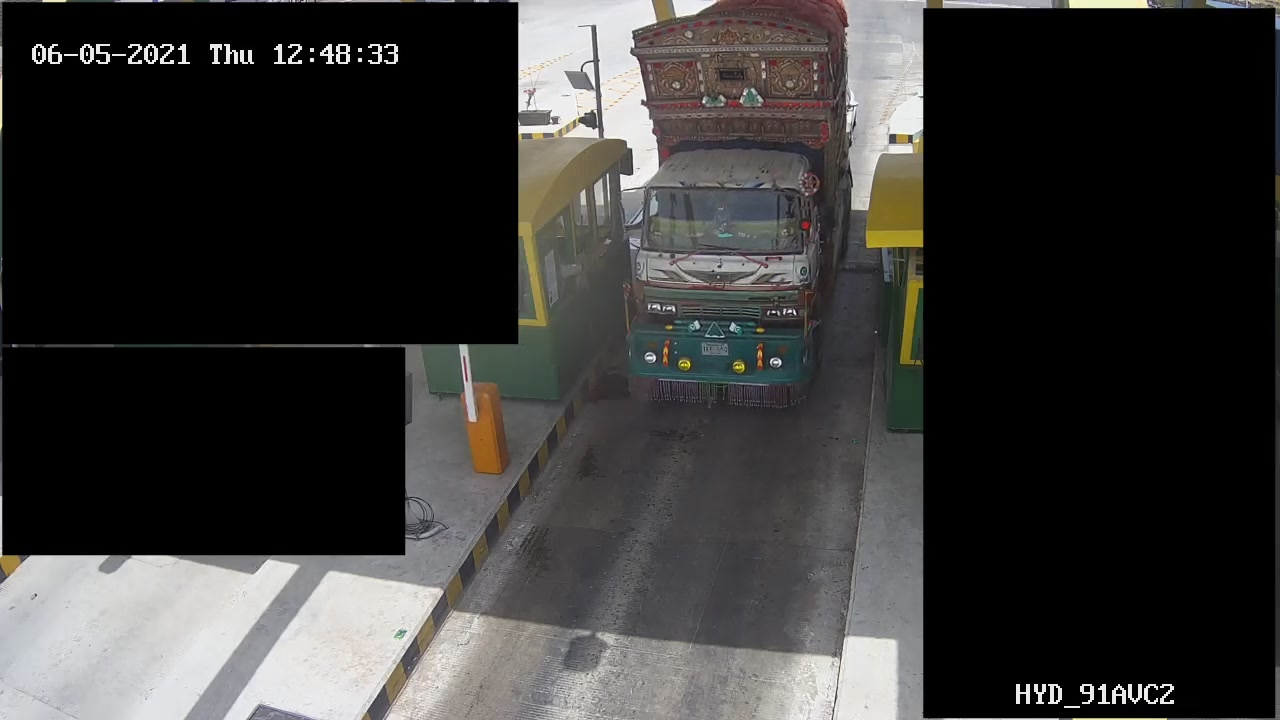F5: (618, 3, 859, 424)
